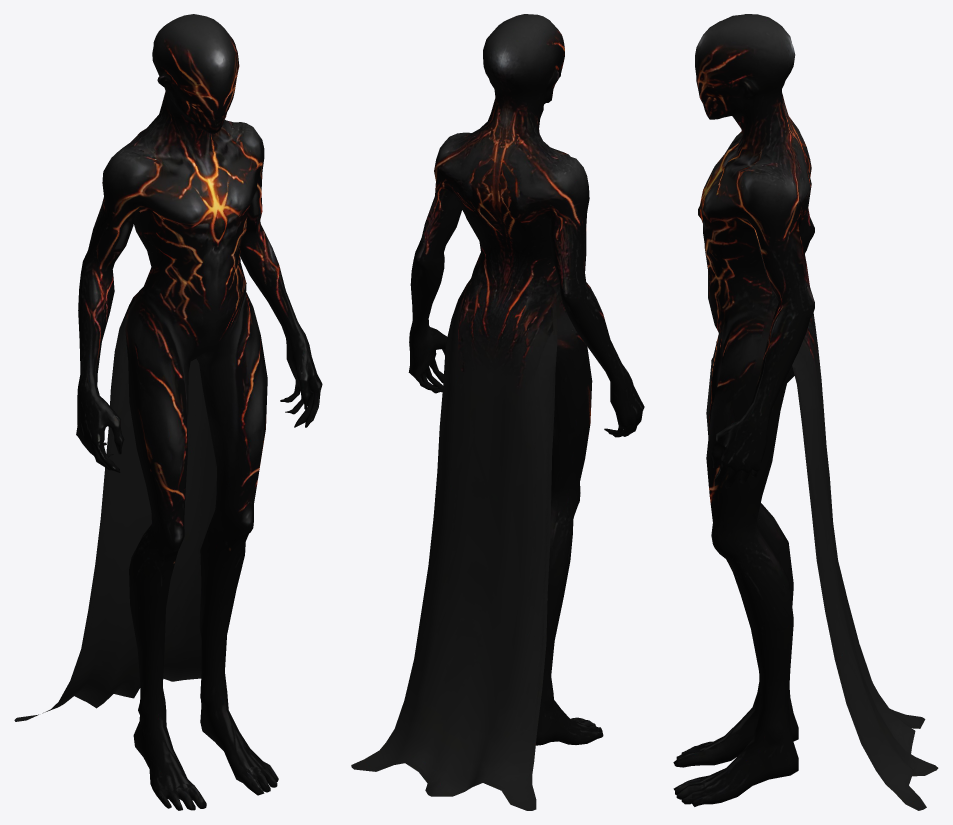
The model's file is selected.glb.
3 views of the same model, side by side, from view 1: azimuth 30°, elevation 25°; view 2: azimuth 150°, elevation 25°; view 3: azimuth 270°, elevation 25° (orthographic). The views are drawn at different scales.
Visible parts, largest first — view 1: tripo_node_50bb03ea-3fb6-4562-8d07-1a2e949883a8; view 2: tripo_node_50bb03ea-3fb6-4562-8d07-1a2e949883a8; view 3: tripo_node_50bb03ea-3fb6-4562-8d07-1a2e949883a8.
Part boxes in pixels (bbox=[...]): tripo_node_50bb03ea-3fb6-4562-8d07-1a2e949883a8: bbox=[14, 14, 322, 810]; tripo_node_50bb03ea-3fb6-4562-8d07-1a2e949883a8: bbox=[351, 14, 644, 810]; tripo_node_50bb03ea-3fb6-4562-8d07-1a2e949883a8: bbox=[673, 14, 938, 810].
Bounding box in the file's own units: 0.3223 × 0.998 × 0.3145.
1 material, 1 textured.
